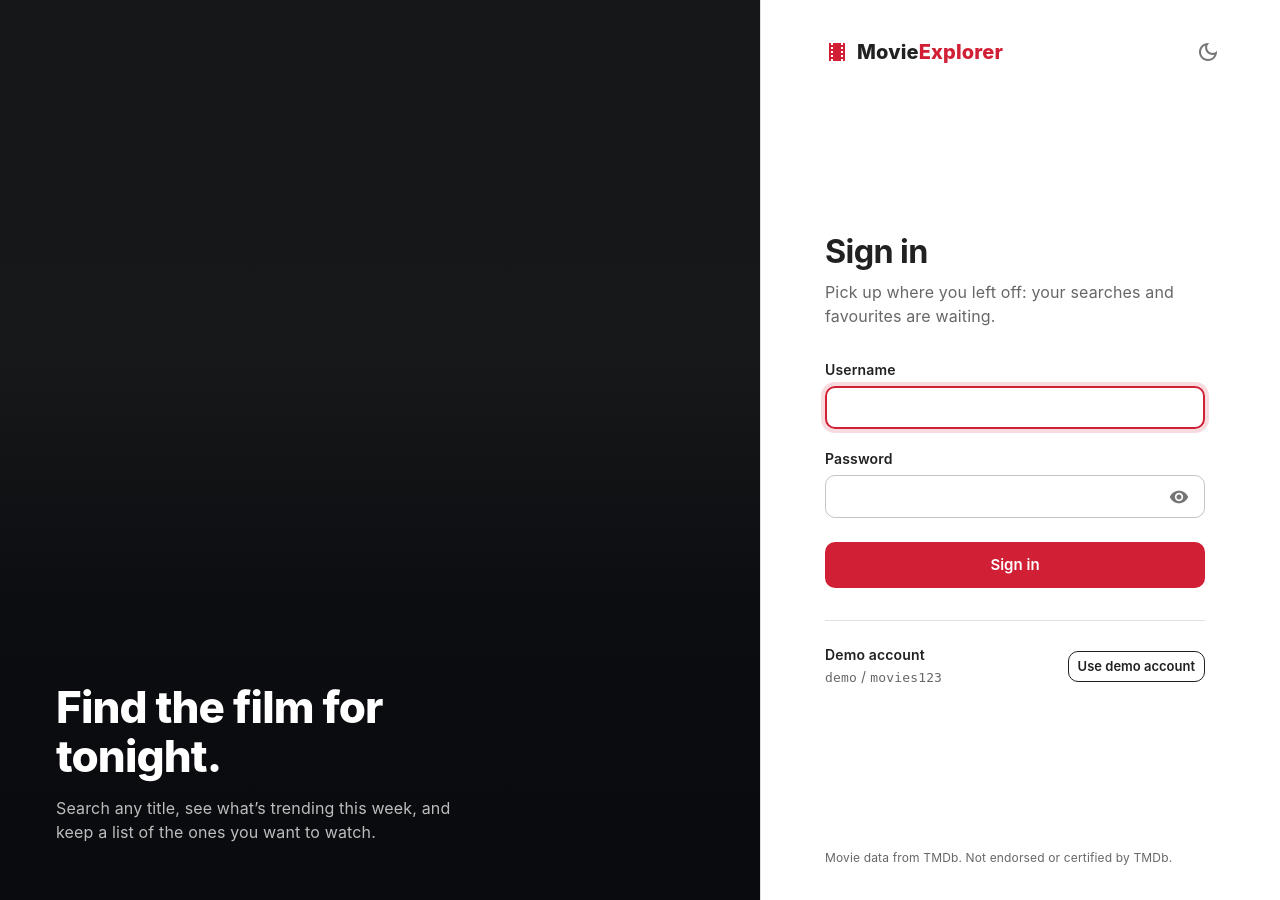
LoginPage › rejects wrong credentials with a friendly message
In the field labelled "Username": [1015, 408] box x1=825 y1=386 x2=1205 y2=429, type "demo"
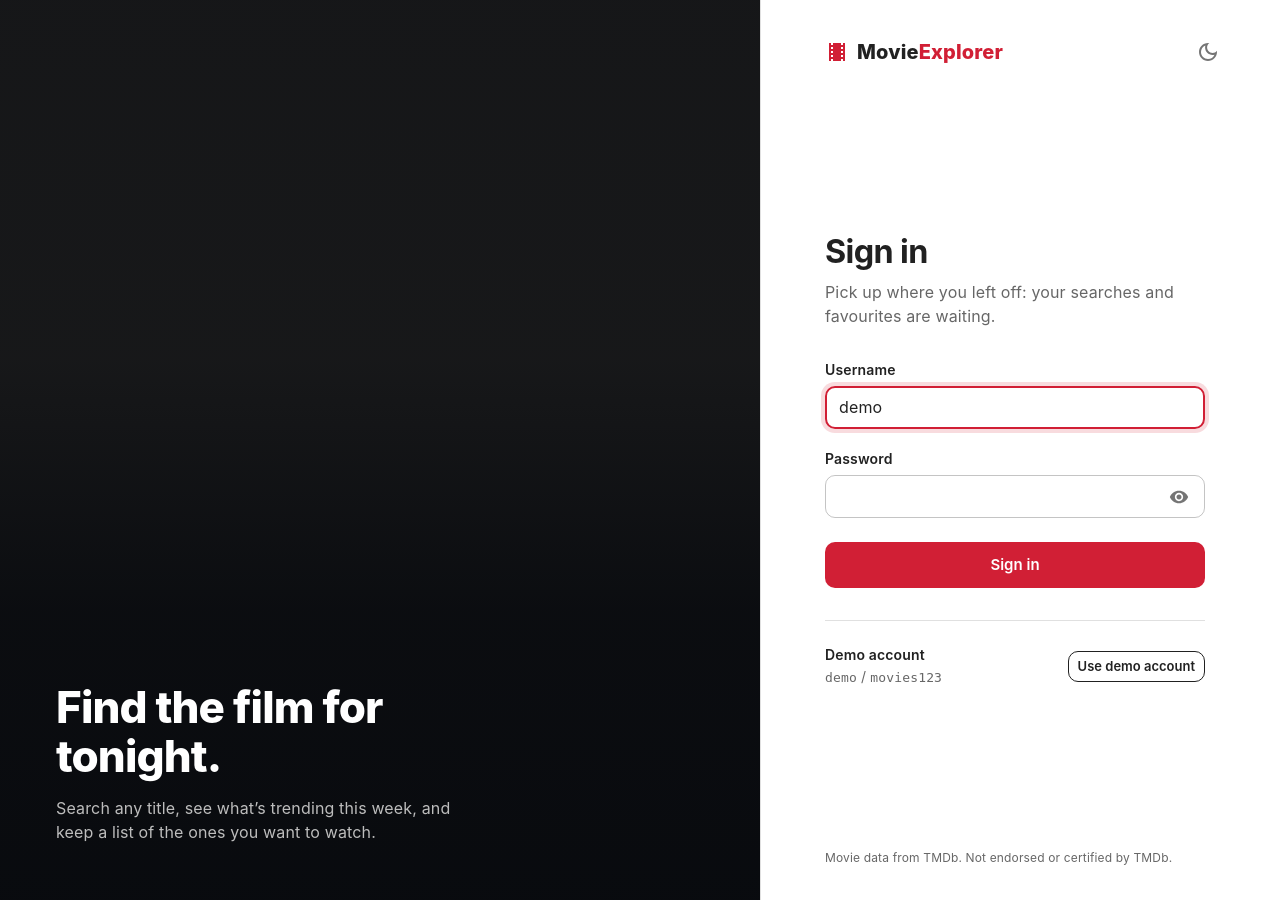
In the password field labelled "Password": [990, 497] box x1=825 y1=475 x2=1156 y2=518, type "wrongpass"
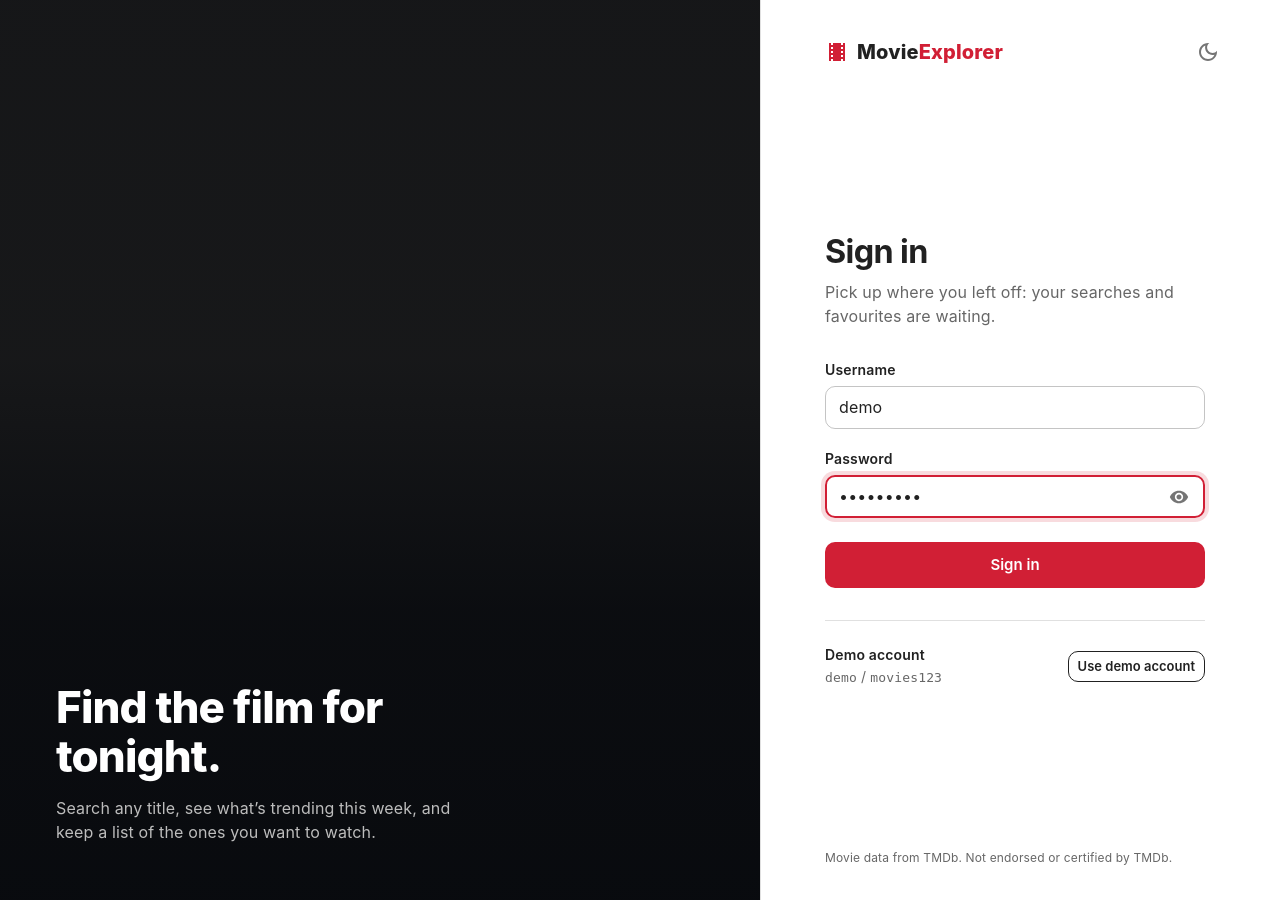
Click the button "Sign in": [1015, 565] box x1=825 y1=542 x2=1205 y2=588
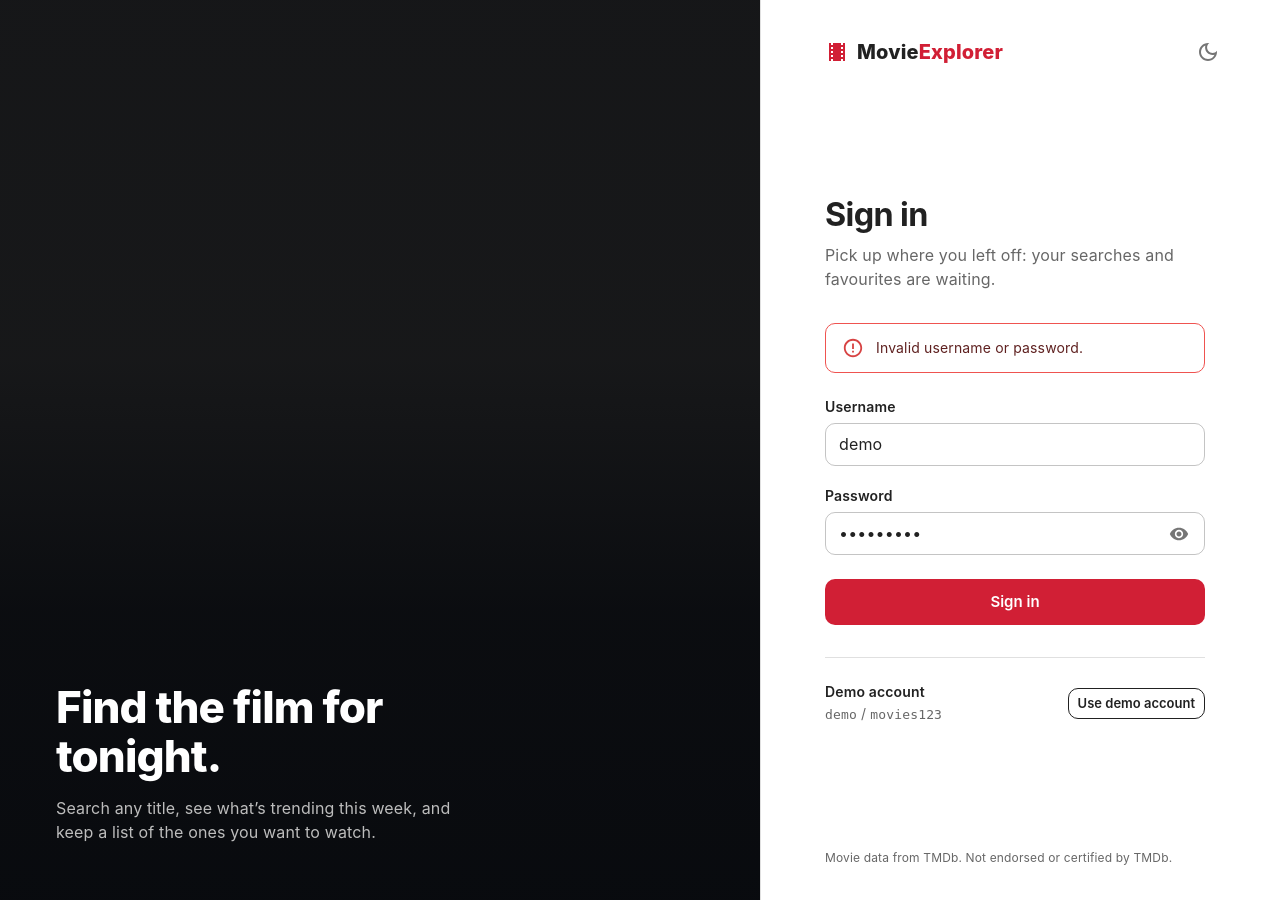
Check: the text "Invalid username or password." is shown, box x1=876 y1=339 x2=1083 y2=356
